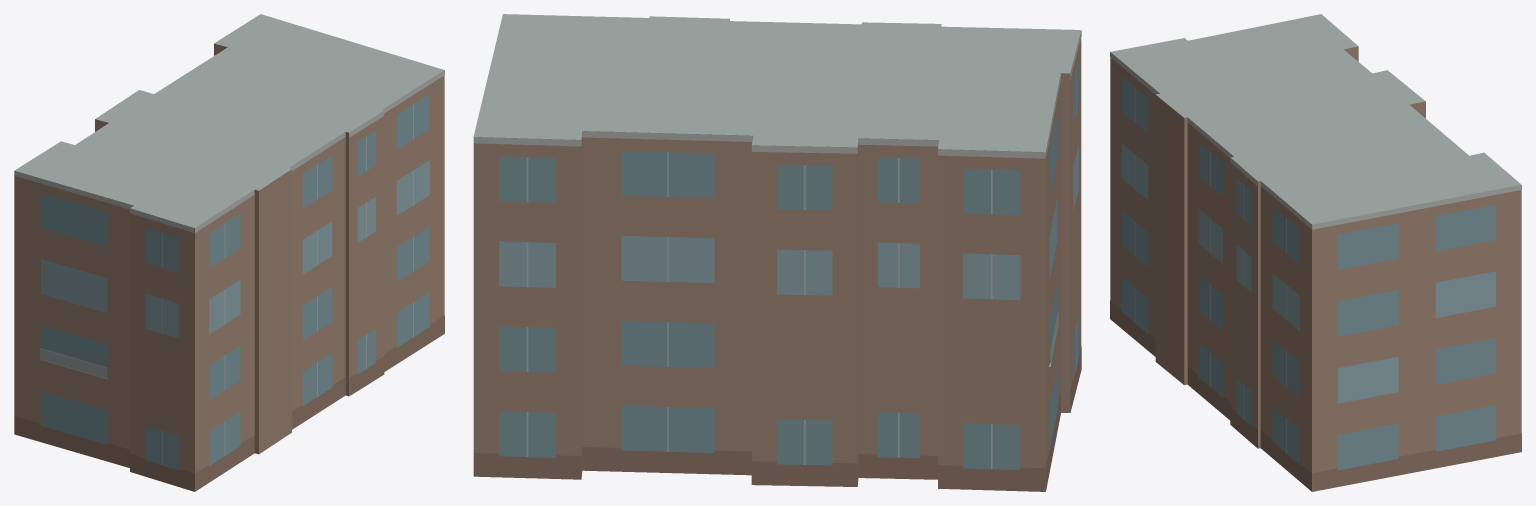
The model's file is survey-upis-33002488.glb.
3 views of the same model, side by side, from view 1: azimuth 30°, elevation 25°; view 2: azimuth 150°, elevation 25°; view 3: azimuth 270°, elevation 25° (orthographic). The views are drawn at different scales.
Visible parts, largest first — view 1: survey-upis-33002488.tmp; view 2: survey-upis-33002488.tmp; view 3: survey-upis-33002488.tmp.
Part boxes in pixels (x1,y1,x2,y2): survey-upis-33002488.tmp: [14, 14, 444, 491]; survey-upis-33002488.tmp: [473, 14, 1081, 491]; survey-upis-33002488.tmp: [1110, 14, 1521, 491].
Bounding box in the file's own units: 21.48 × 12.7 × 17.74.
